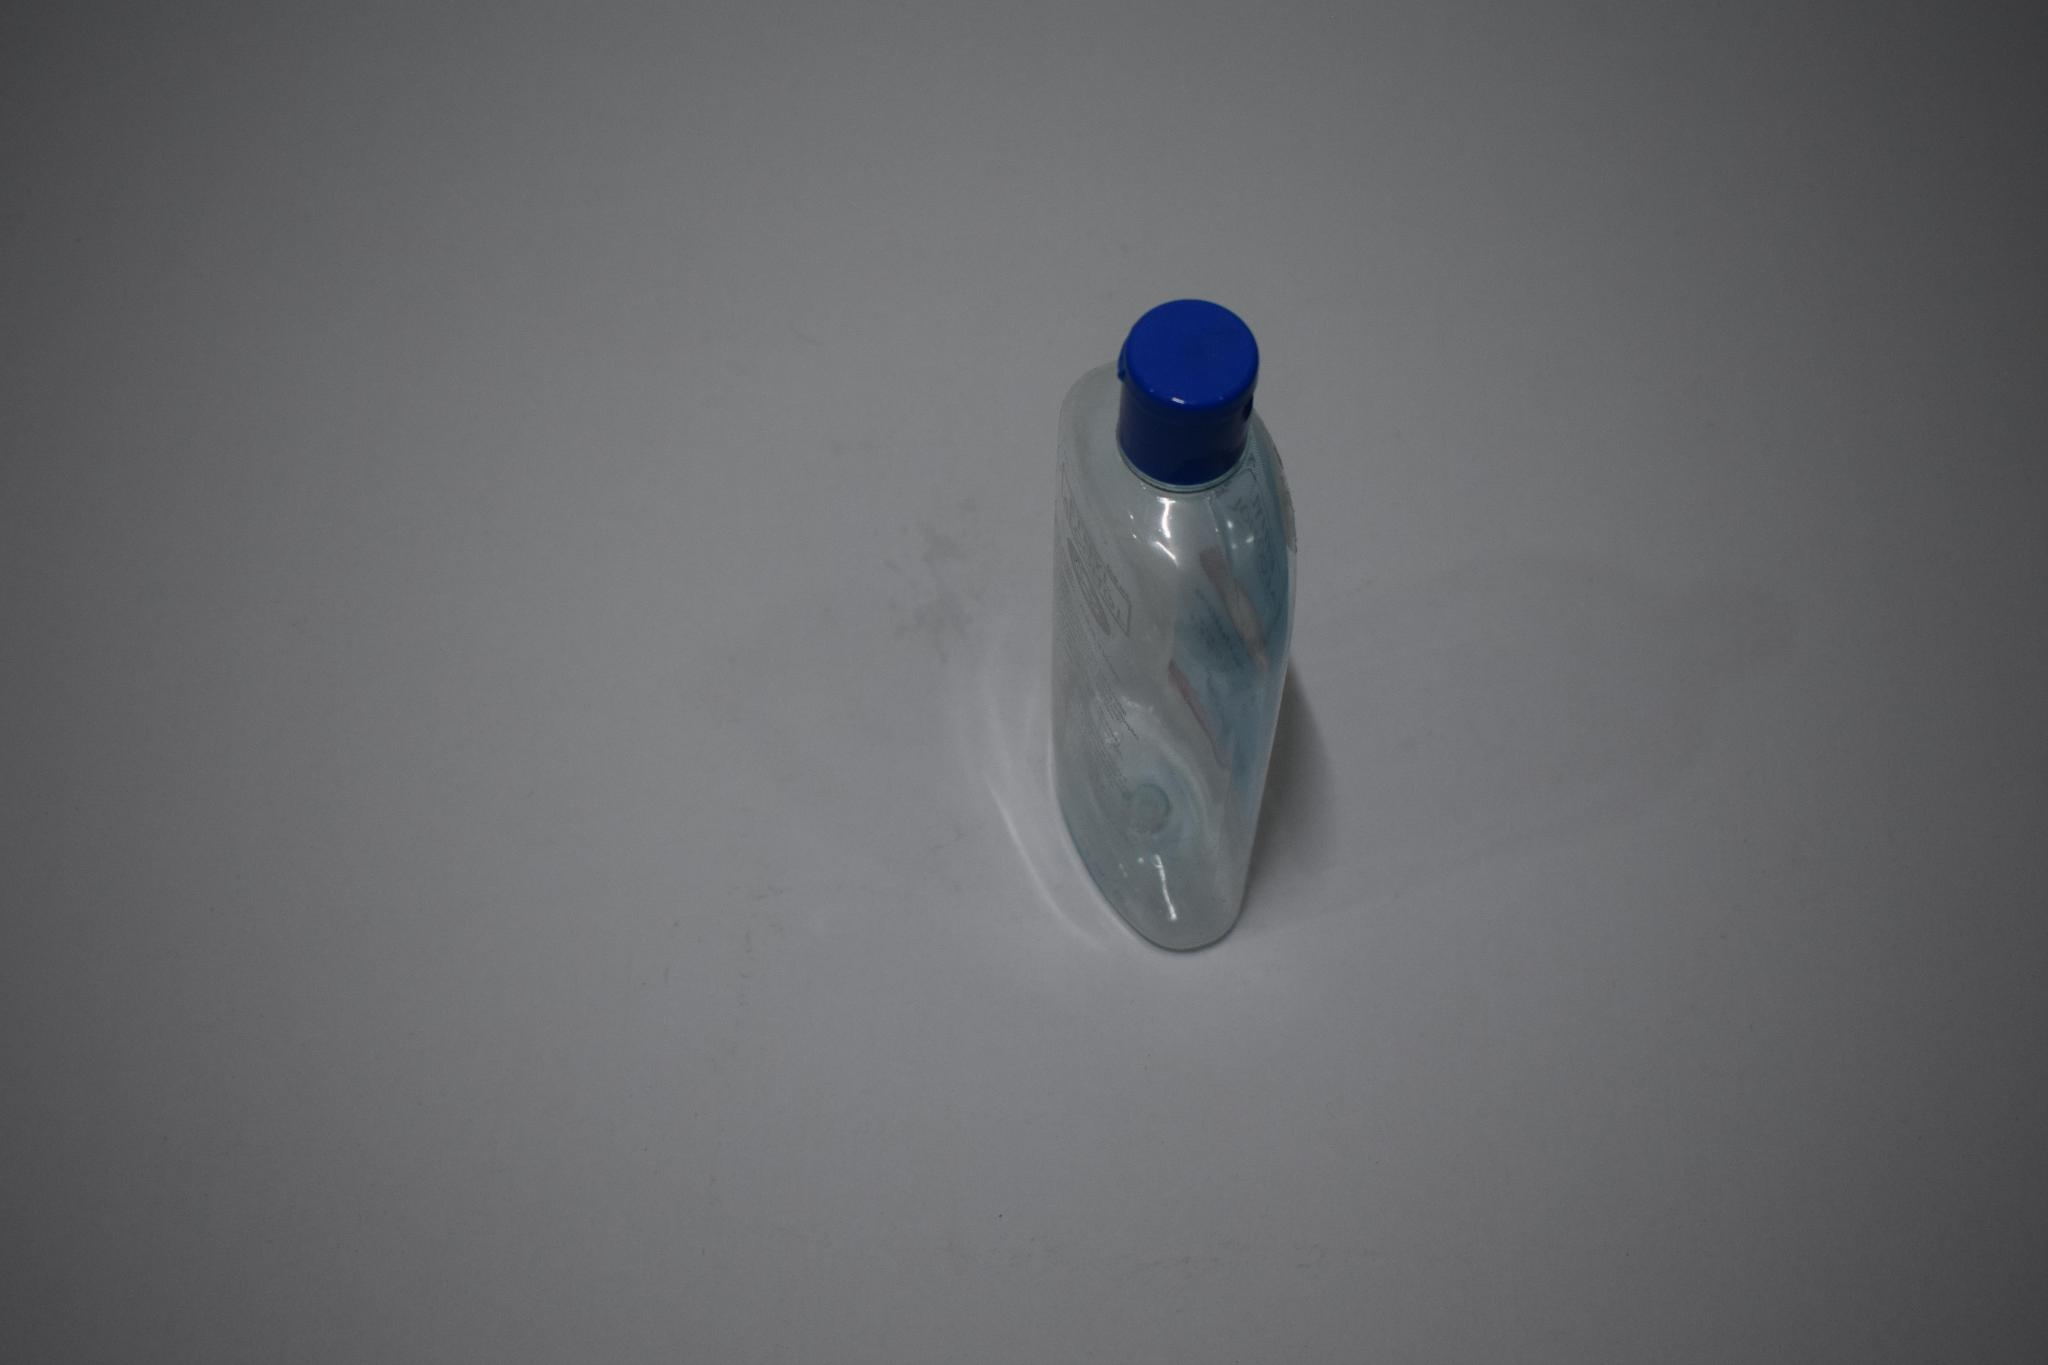bottle: (1040, 294, 1308, 963)
